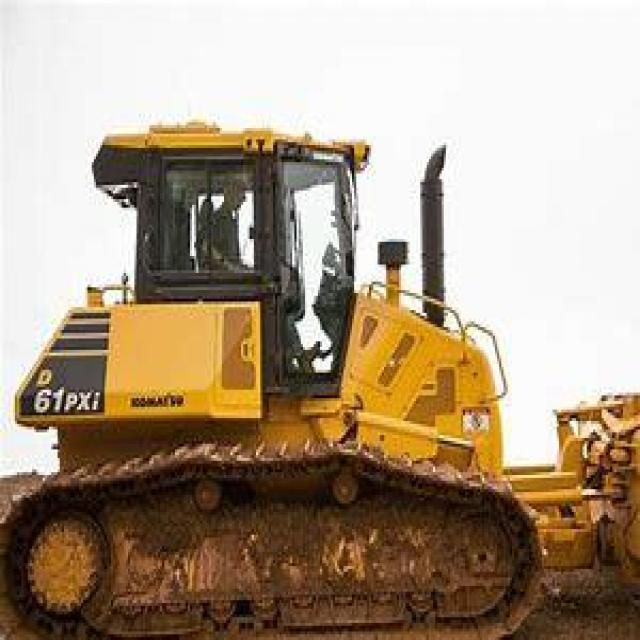Bulldozer: (0, 94, 638, 631)
